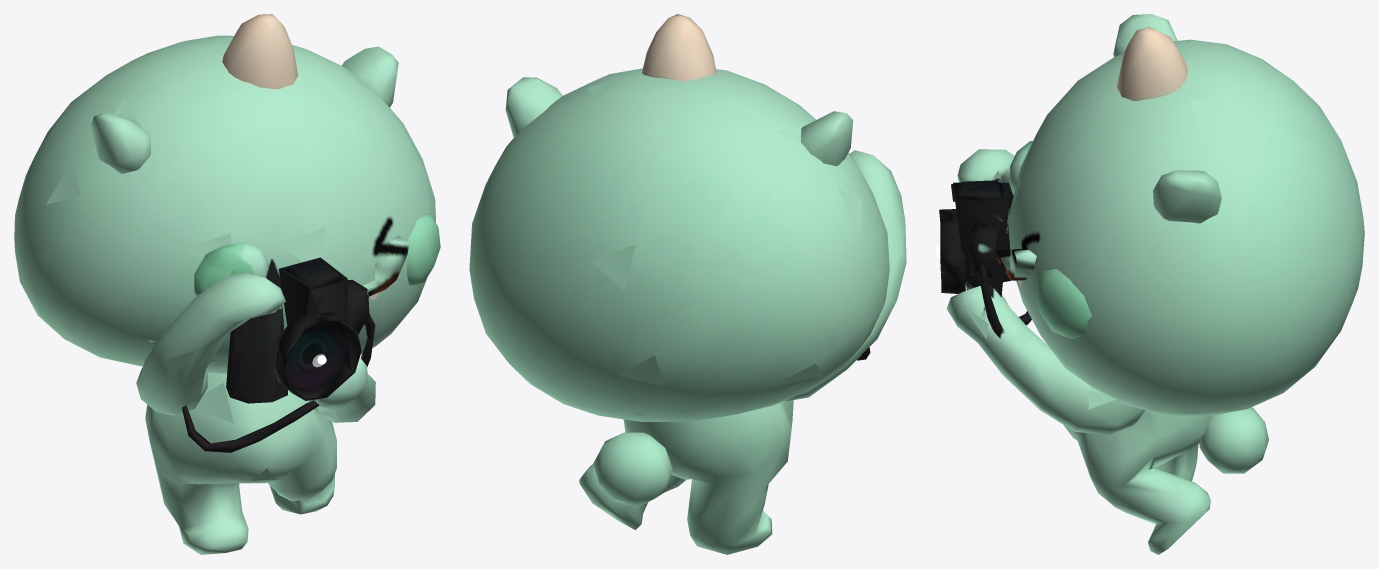
Rendered from kkebi-camera-blink-lowpoly.glb.
3 renders of one model, left to right at view 1: azimuth 30°, elevation 25°; view 2: azimuth 150°, elevation 25°; view 3: azimuth 270°, elevation 25°, orthographic. The views are drawn at different scales.
Visible parts, largest first — view 1: mesh_node; view 2: mesh_node; view 3: mesh_node.
Boxes of the visible parts, x1,y1,x2,y2 form: mesh_node: [14, 14, 440, 554]; mesh_node: [469, 14, 906, 554]; mesh_node: [939, 14, 1364, 554].
Bounding box in the file's own units: 2.74 × 3.55 × 2.77.
Materials: 3 (1 with a texture image).
